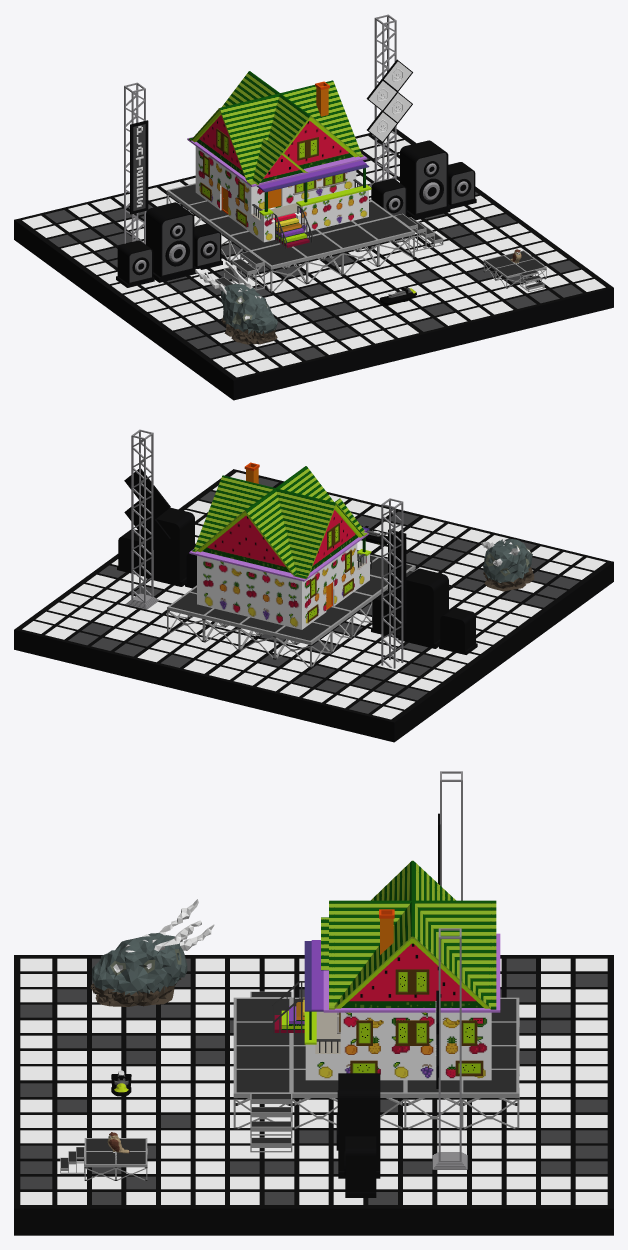
3 views of the same model, one above another, from view 1: azimuth 30°, elevation 25°; view 2: azimuth 150°, elevation 25°; view 3: azimuth 270°, elevation 25° (orthographic). The views are drawn at different scales.
Visible parts, largest first — view 1: Cube.008, Cube.1063, OBJRANDOM_METEORITE; view 2: Cube.008, Cube.1063, OBJRANDOM_METEORITE; view 3: Cube.008, Cube.1063, OBJRANDOM_METEORITE.
Part boxes in pixels (<box>): Cube.008: <box>14,14,613,400</box>; Cube.1063: <box>187,71,371,248</box>; OBJRANDOM_METEORITE: <box>195,261,277,344</box>; Cube.008: <box>14,429,613,742</box>; Cube.1063: <box>189,462,372,629</box>; OBJRANDOM_METEORITE: <box>481,538,534,591</box>; Cube.008: <box>14,771,613,1235</box>; Cube.1063: <box>272,860,500,1080</box>; OBJRANDOM_METEORITE: <box>90,899,214,1006</box>.
Bounding box in the file's own units: 4000 × 1945 × 4000.
Materials: 33 (3 with a texture image).
